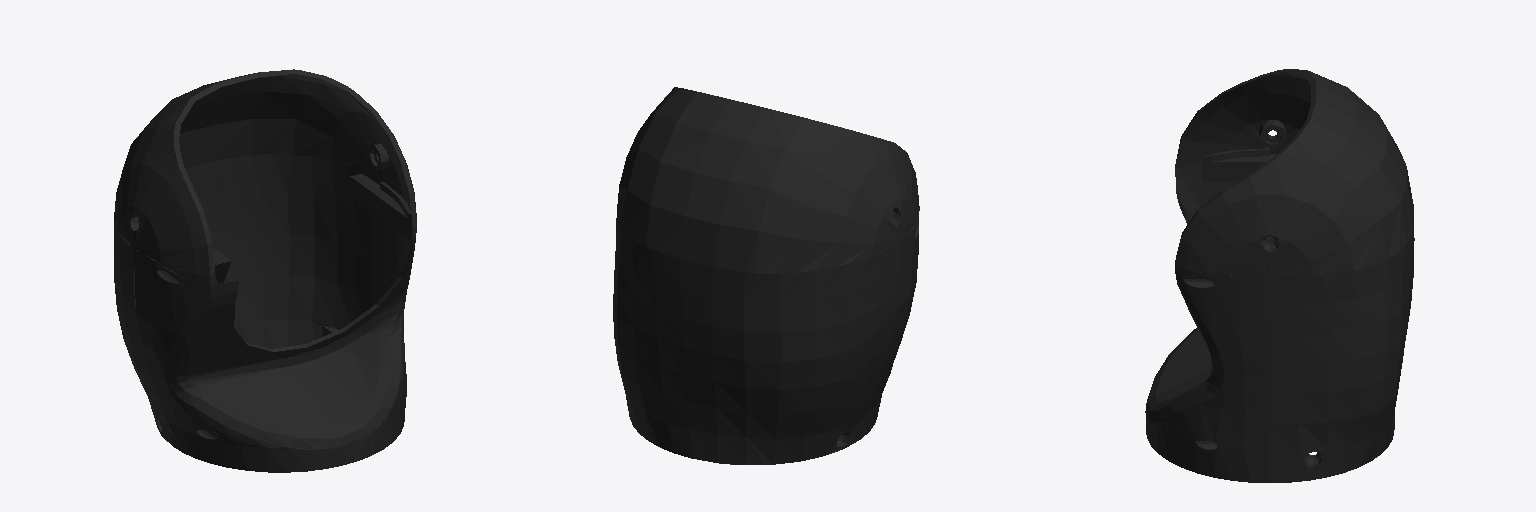
The model's file is asm0001_vrml_05_prt.obj.
3 renders of one model, left to right at view 1: azimuth 30°, elevation 25°; view 2: azimuth 150°, elevation 25°; view 3: azimuth 270°, elevation 25°, orthographic.
Visible parts, largest first — view 1: ShapeIndexedFaceSet_ShapeIndexedFaceSet.011, ShapeIndexedFaceSet.001_ShapeIndexedFaceSet; view 2: ShapeIndexedFaceSet_ShapeIndexedFaceSet.011, ShapeIndexedFaceSet.001_ShapeIndexedFaceSet; view 3: ShapeIndexedFaceSet_ShapeIndexedFaceSet.011, ShapeIndexedFaceSet.001_ShapeIndexedFaceSet.
Part boxes in pixels (left/top/right/bottom): ShapeIndexedFaceSet_ShapeIndexedFaceSet.011: left=114, top=69, right=416, bottom=445; ShapeIndexedFaceSet.001_ShapeIndexedFaceSet: left=134, top=182, right=416, bottom=472; ShapeIndexedFaceSet_ShapeIndexedFaceSet.011: left=613, top=87, right=919, bottom=464; ShapeIndexedFaceSet.001_ShapeIndexedFaceSet: left=861, top=208, right=919, bottom=438; ShapeIndexedFaceSet_ShapeIndexedFaceSet.011: left=1175, top=69, right=1414, bottom=482; ShapeIndexedFaceSet.001_ShapeIndexedFaceSet: left=1145, top=148, right=1269, bottom=482.
Size of the model in its own units: 3.3 by 4.1 by 3.02.